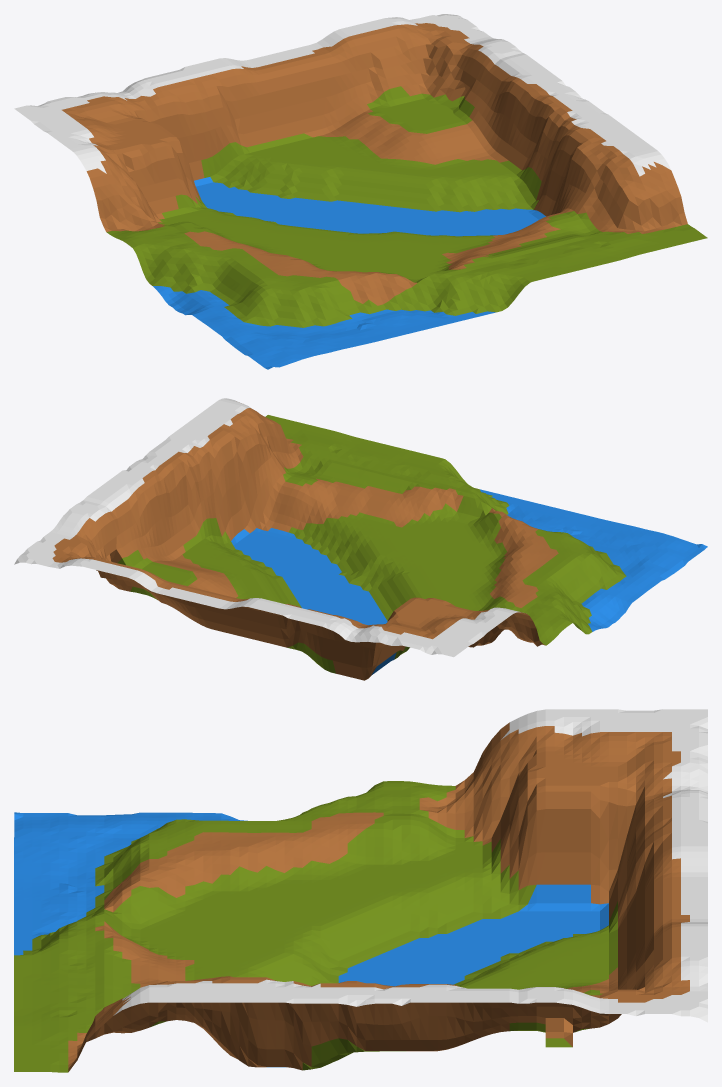
The model's file is Map_V2.fbx.
3 views of the same model, one above another, from view 1: azimuth 30°, elevation 25°; view 2: azimuth 150°, elevation 25°; view 3: azimuth 270°, elevation 25° (orthographic). The views are drawn at different scales.
Visible parts, largest first — view 1: Terrain; view 2: Terrain; view 3: Terrain.
Boxes of the visible parts, <box> form: Terrain: <box>14,14,707,369</box>; Terrain: <box>14,398,707,680</box>; Terrain: <box>14,709,707,1072</box>.
Size of what is drawn, in the model's own units: 1000 by 182 by 1000.
